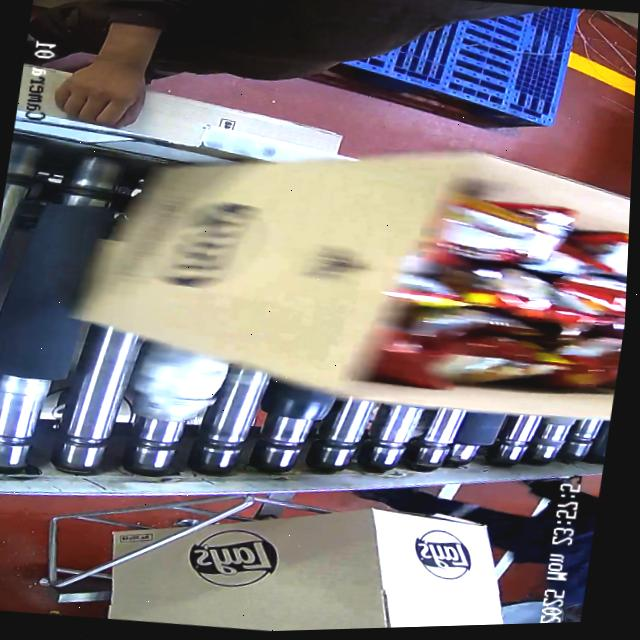MASALA: (379, 208, 630, 399)
